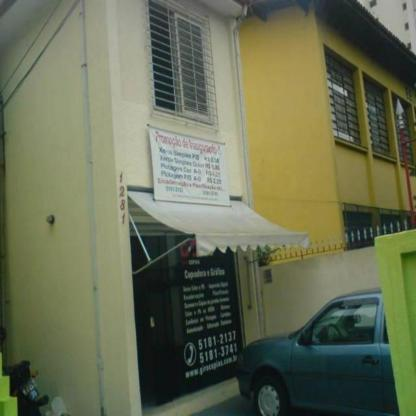Car: (244, 291, 402, 414)
